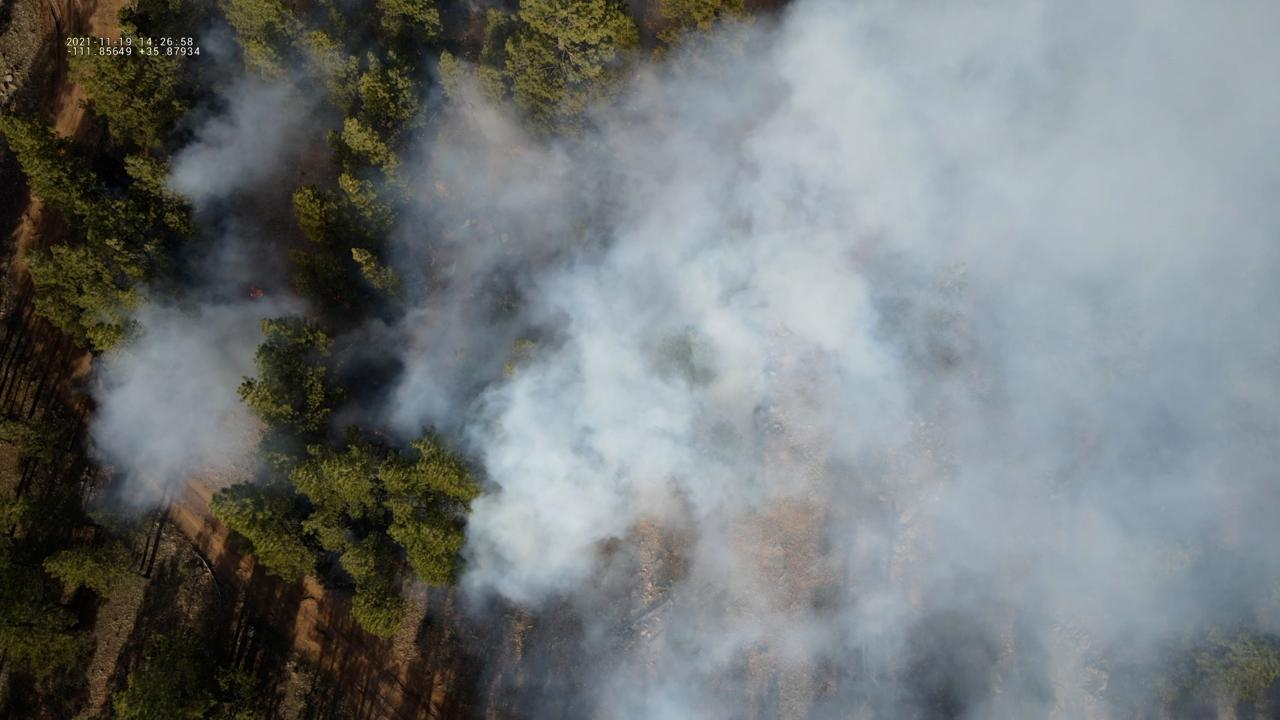fire: (247, 284, 264, 299)
smoke: (70, 0, 1280, 720)
